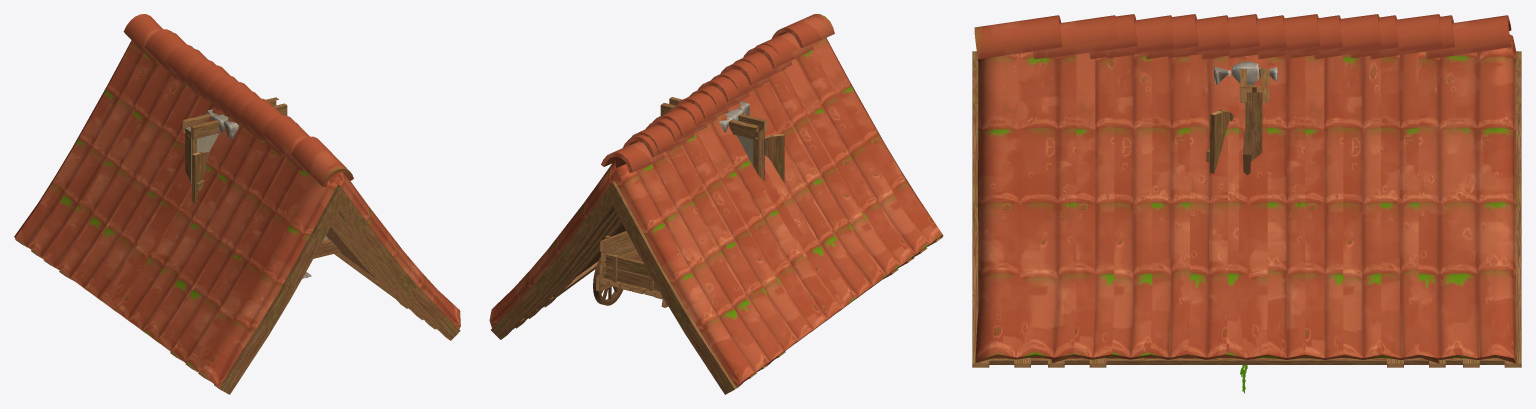
The model's file is village.glb.
3 renders of one model, left to right at view 1: azimuth 30°, elevation 25°; view 2: azimuth 150°, elevation 25°; view 3: azimuth 270°, elevation 25°, orthographic. The views are drawn at different scales.
Visible parts, largest first — view 1: Roof_RoundTiles_4x6, Roof_RoundTiles_4x4, Wall_Plaster_Straight, WindowShutters_Wide_Round_Open, Wall_Plaster_WoodGrid, Prop_Chimney, Wall_Plaster_Door_Round; view 2: Roof_RoundTiles_4x6, Roof_RoundTiles_4x4, Prop_Wagon, WindowShutters_Wide_Round_Open, Wall_Plaster_Straight, Wall_Plaster_WoodGrid; view 3: Roof_RoundTiles_4x6, Roof_RoundTiles_4x4, Wall_Plaster_WoodGrid, WindowShutters_Wide_Round_Open, Prop_Chimney.
Part boxes in pixels (<box>): Roof_RoundTiles_4x6: <box>14,14,460,394</box>; Roof_RoundTiles_4x4: <box>43,32,423,372</box>; Wall_Plaster_Straight: <box>183,105,287,184</box>; WindowShutters_Wide_Round_Open: <box>192,151,209,203</box>; Wall_Plaster_WoodGrid: <box>183,98,279,183</box>; Prop_Chimney: <box>206,109,238,138</box>; Wall_Plaster_Door_Round: <box>182,97,286,139</box>; Roof_RoundTiles_4x6: <box>489,14,943,394</box>; Roof_RoundTiles_4x4: <box>528,44,914,371</box>; Prop_Wagon: <box>593,231,668,307</box>; WindowShutters_Wide_Round_Open: <box>764,134,784,182</box>; Wall_Plaster_Straight: <box>660,105,758,165</box>; Wall_Plaster_WoodGrid: <box>670,98,765,180</box>; Roof_RoundTiles_4x6: <box>972,15,1521,367</box>; Roof_RoundTiles_4x4: <box>1045,14,1445,367</box>; Wall_Plaster_WoodGrid: <box>1242,67,1269,161</box>; WindowShutters_Wide_Round_Open: <box>1206,110,1234,173</box>; Prop_Chimney: <box>1214,61,1277,84</box>.
Size of the model in its own units: 5.51 by 5.85 by 7.57.
8 materials, 7 textured.
